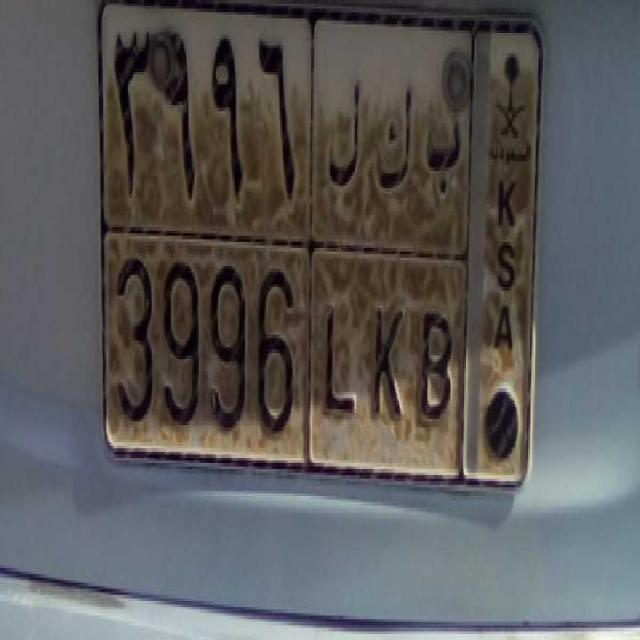license_plate: (102, 226, 464, 468)
